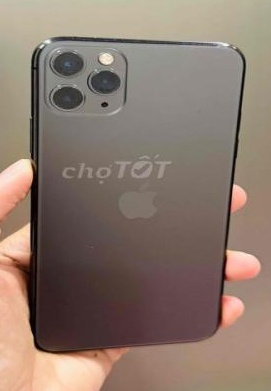scratch: (190, 40, 237, 55), (83, 235, 104, 261)
